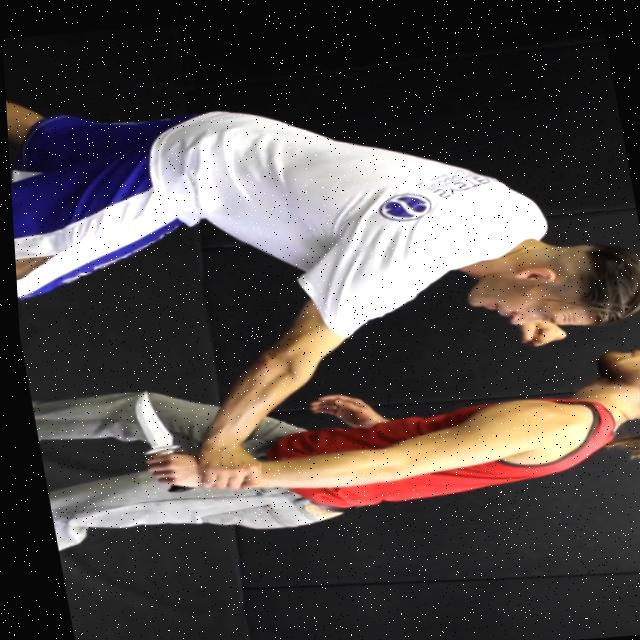knife: (119, 383, 186, 456)
